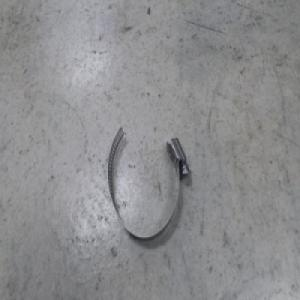AdjustableClamp: (107, 125, 189, 240)
